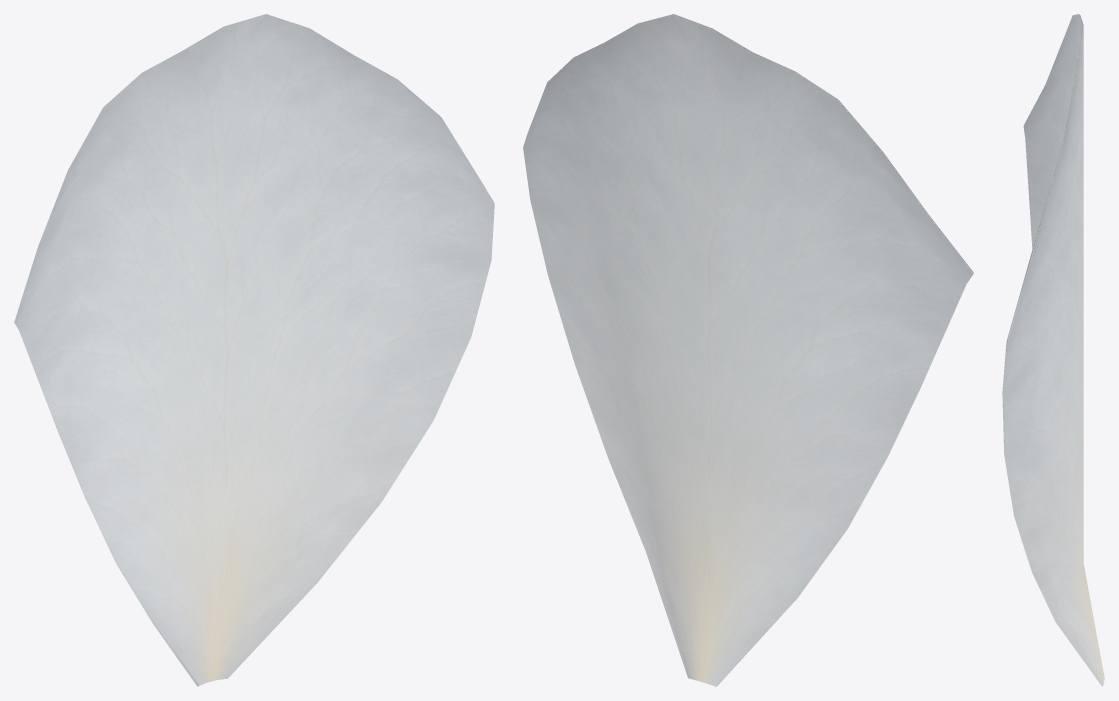
Rendered from middle_02.glb.
3 views of the same model, side by side, from view 1: azimuth 30°, elevation 25°; view 2: azimuth 150°, elevation 25°; view 3: azimuth 270°, elevation 25° (orthographic). The views are drawn at different scales.
Parts seen in each view (by area): view 1: middle_02; view 2: middle_02; view 3: middle_02.
Boxes of the visible parts, left/top/right/bottom form: middle_02: left=14, top=14, right=494, bottom=686; middle_02: left=523, top=14, right=973, bottom=686; middle_02: left=1002, top=14, right=1104, bottom=686.
Size of the model in its own units: 0.0601 by 0.0814 by 0.0115.
Materials: 1 (1 with a texture image).
